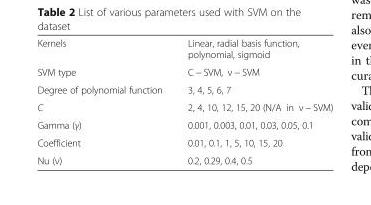table: (36, 36, 332, 165)
table column: (174, 36, 332, 165), (36, 36, 174, 165)
table row: (36, 36, 332, 62), (36, 62, 332, 80), (36, 97, 332, 115), (36, 115, 332, 133), (36, 80, 332, 97), (36, 133, 332, 150), (36, 150, 332, 165)
